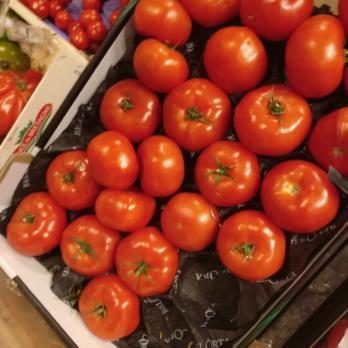Tomato: (130, 0, 348, 280), (42, 142, 146, 341), (5, 189, 61, 255)
